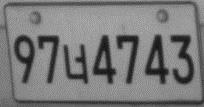3: (169, 34, 195, 83)
4: (144, 33, 169, 84), (92, 34, 116, 85)
7: (116, 34, 139, 85), (37, 34, 59, 83)
9: (13, 34, 35, 83)
너: (62, 43, 89, 84)
